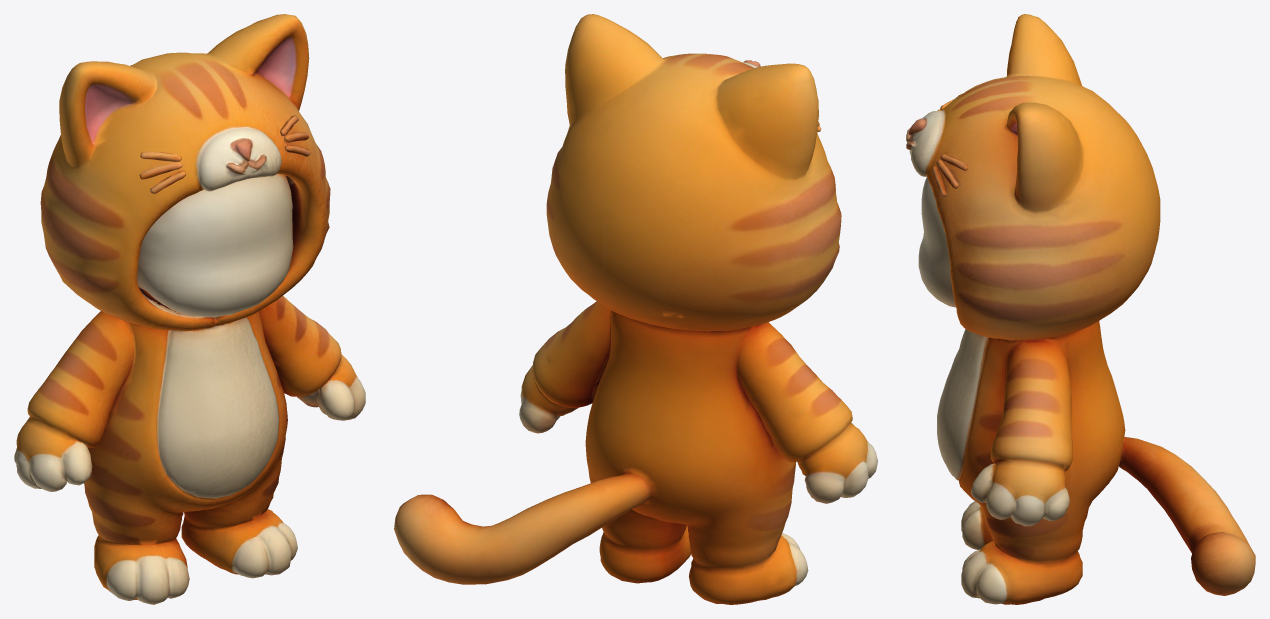
The model's file is cat.glb.
The picture shows the model from 3 angles, left to right: view 1: azimuth 30°, elevation 25°; view 2: azimuth 150°, elevation 25°; view 3: azimuth 270°, elevation 25°; orthographic projection. The views are drawn at different scales.
Parts seen in each view (by area): view 1: tripo_node_20561da3-d370-42a3-b1ec-9397d173d1d0; view 2: tripo_node_20561da3-d370-42a3-b1ec-9397d173d1d0; view 3: tripo_node_20561da3-d370-42a3-b1ec-9397d173d1d0.
Boxes of the visible parts, bbox=[...] form: tripo_node_20561da3-d370-42a3-b1ec-9397d173d1d0: bbox=[14, 14, 365, 604]; tripo_node_20561da3-d370-42a3-b1ec-9397d173d1d0: bbox=[394, 14, 877, 604]; tripo_node_20561da3-d370-42a3-b1ec-9397d173d1d0: bbox=[906, 14, 1255, 604].
Size of the model in its own units: 0.6907 by 0.9777 by 0.6103.
1 material, 1 textured.
